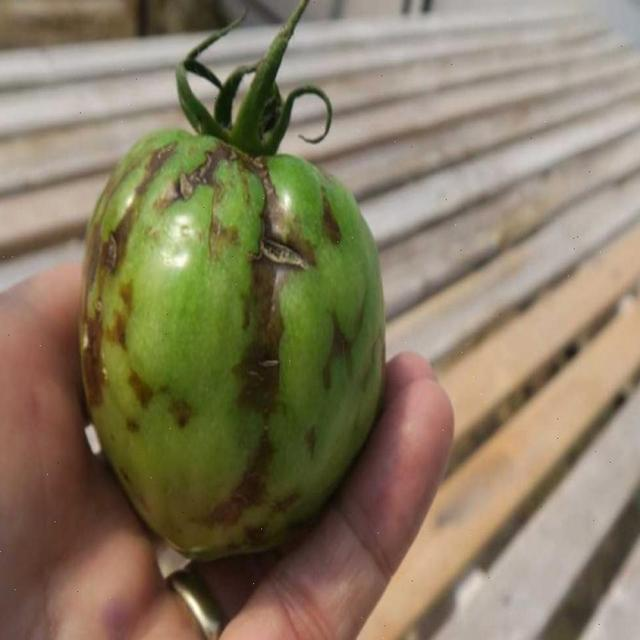Spotted wilt Virus Fruit: (99, 181, 314, 527)
